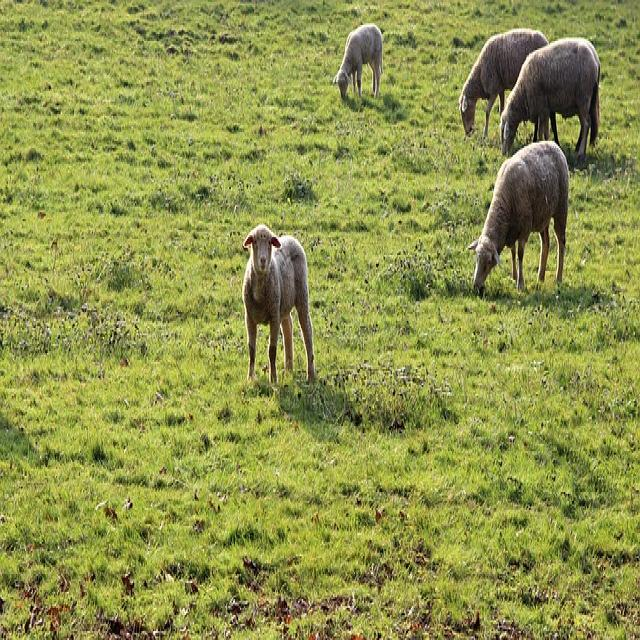goat: (469, 140, 569, 293), (500, 38, 600, 164), (242, 225, 312, 381), (459, 29, 548, 137), (332, 25, 382, 98)
